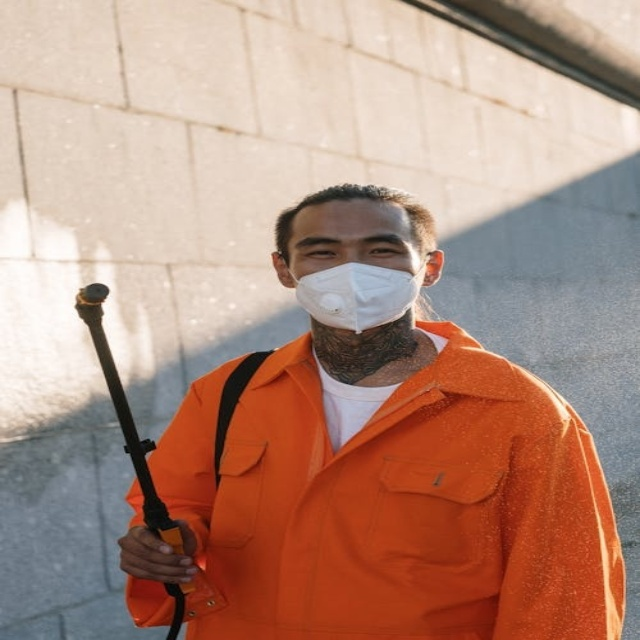Mascara: (291, 259, 424, 331)
Sin_gafas: (288, 231, 411, 261)
Sin_guantes: (117, 519, 201, 585)
